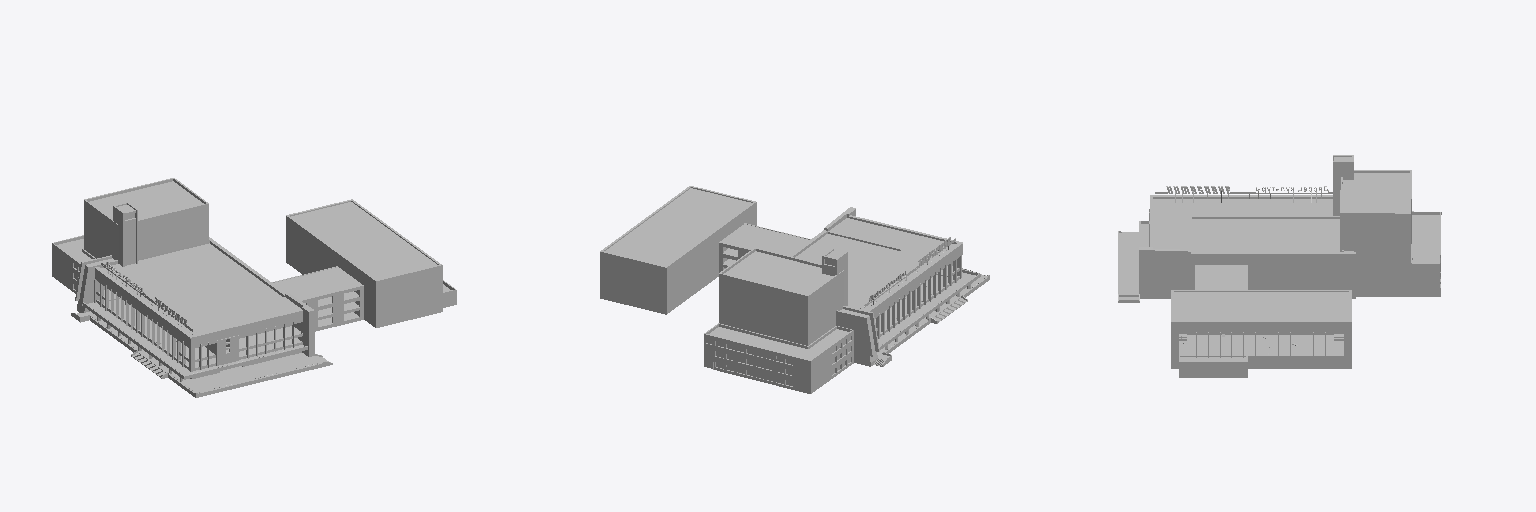
File: energetic.obj
The picture shows the model from 3 angles: view 1: azimuth 30°, elevation 25°; view 2: azimuth 150°, elevation 25°; view 3: azimuth 270°, elevation 25°; orthographic projection.
Parts seen in each view (by area): view 1: defaultMaterial.003, defaultMaterial.007, defaultMaterial.001, defaultMaterial.002, defaultMaterial.004, defaultMaterial.005, defaultMaterial.006, defaultMaterial.008; view 2: defaultMaterial.001, defaultMaterial.003, defaultMaterial.007, defaultMaterial.002, defaultMaterial.004, defaultMaterial.005, defaultMaterial.008; view 3: defaultMaterial.003, defaultMaterial.001, defaultMaterial.007, defaultMaterial.002, defaultMaterial.004, defaultMaterial.008.
Boxes of the visible parts, x1=… form: defaultMaterial.003: x1=272, y1=199, x2=456, y2=331; defaultMaterial.007: x1=95, y1=243, x2=302, y2=348; defaultMaterial.001: x1=52, y1=178, x2=208, y2=293; defaultMaterial.002: x1=71, y1=237, x2=332, y2=397; defaultMaterial.004: x1=94, y1=202, x2=293, y2=381; defaultMaterial.005: x1=83, y1=298, x2=307, y2=379; defaultMaterial.006: x1=96, y1=290, x2=302, y2=365; defaultMaterial.008: x1=101, y1=261, x2=196, y2=334; defaultMaterial.001: x1=704, y1=248, x2=853, y2=393; defaultMaterial.003: x1=600, y1=186, x2=810, y2=314; defaultMaterial.007: x1=795, y1=215, x2=962, y2=318; defaultMaterial.002: x1=789, y1=207, x2=989, y2=366; defaultMaterial.004: x1=822, y1=248, x2=970, y2=349; defaultMaterial.005: x1=875, y1=269, x2=980, y2=349; defaultMaterial.008: x1=860, y1=237, x2=955, y2=308; defaultMaterial.003: x1=1171, y1=265, x2=1351, y2=377; defaultMaterial.001: x1=1340, y1=170, x2=1441, y2=296; defaultMaterial.007: x1=1150, y1=195, x2=1339, y2=251; defaultMaterial.002: x1=1118, y1=231, x2=1355, y2=302; defaultMaterial.004: x1=1149, y1=155, x2=1353, y2=358; defaultMaterial.008: x1=1155, y1=186, x2=1332, y2=202.
Bounding box in the file's own units: 7.46 × 2.34 × 6.95.